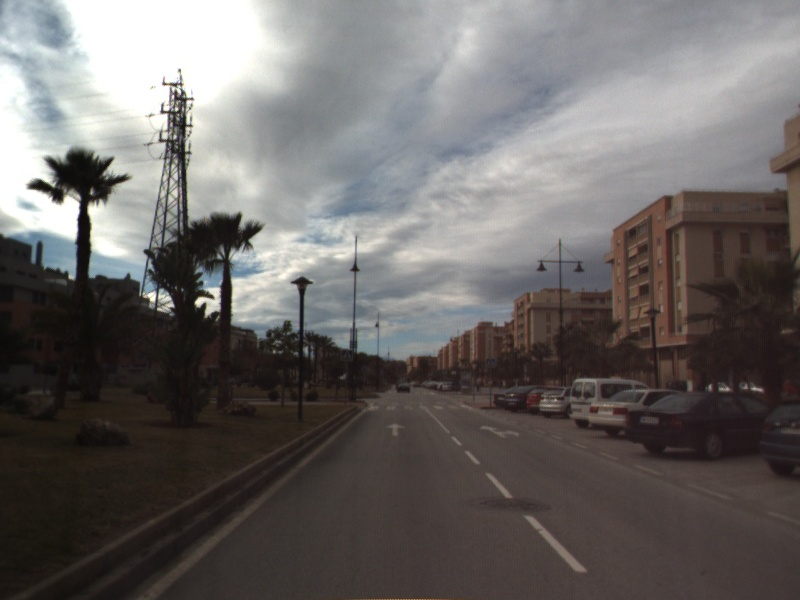STRAIGHT: (384, 421, 407, 438)
STRAIGHT_RIGHT: (478, 423, 521, 440)
